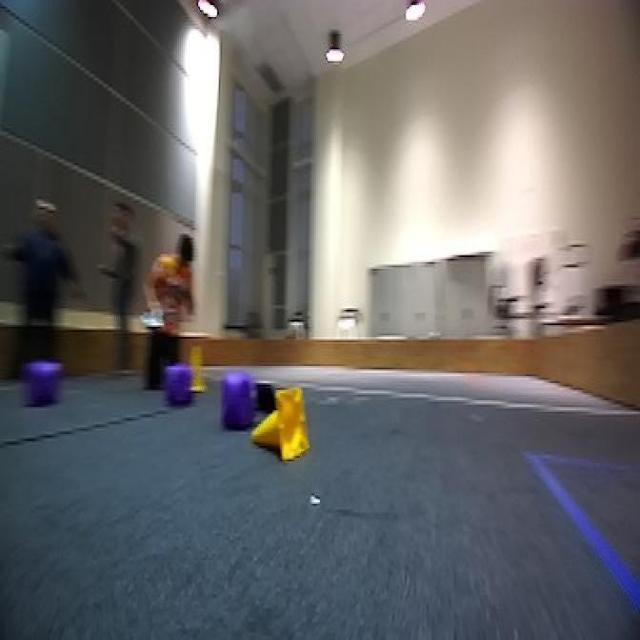frc_cone: (248, 388, 313, 463), (187, 341, 212, 392)
frc_cube: (220, 364, 257, 438), (27, 356, 58, 412), (162, 359, 191, 409)
